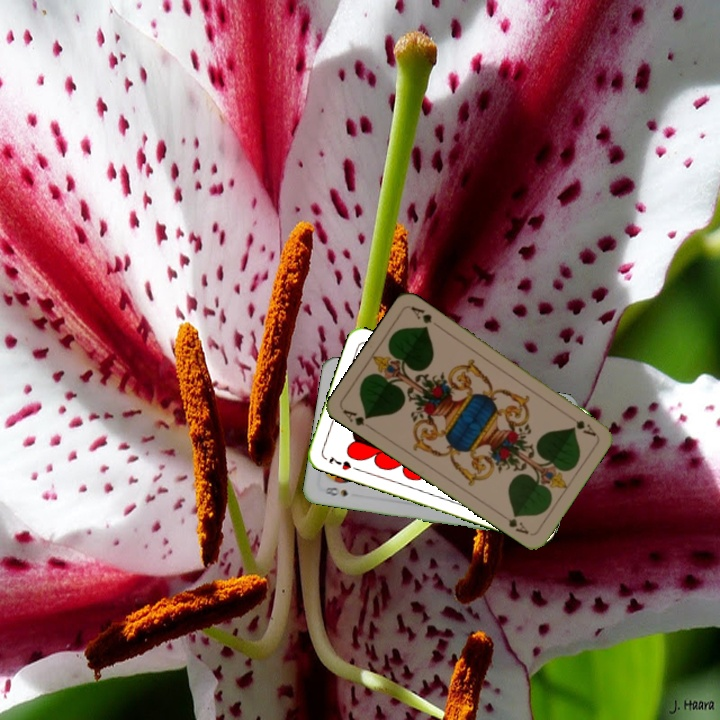GA: (563, 410, 599, 439), (339, 405, 376, 432)
H7: (325, 452, 361, 473)
S8: (319, 483, 350, 499)
